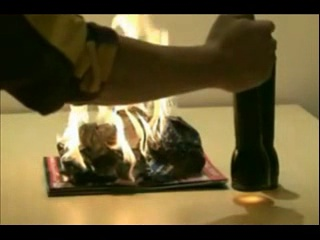fire: (91, 104, 138, 181), (57, 103, 90, 173), (110, 13, 171, 48), (138, 96, 171, 159)
